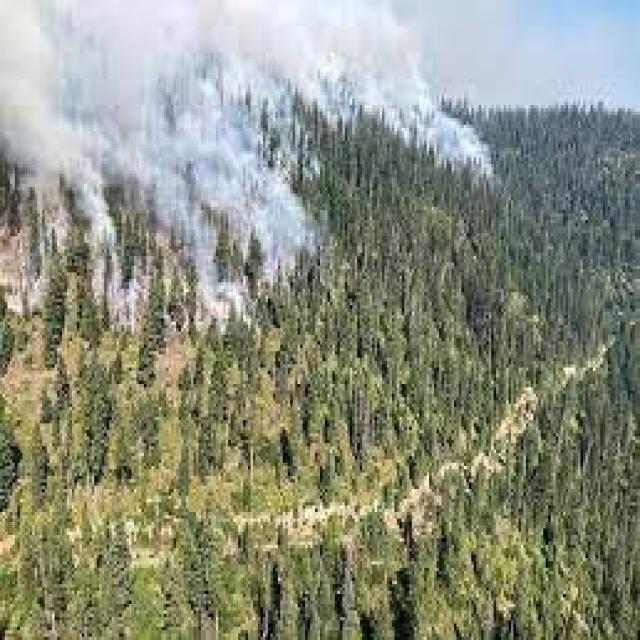Smoke: (0, 0, 320, 312), (0, 0, 507, 185)
